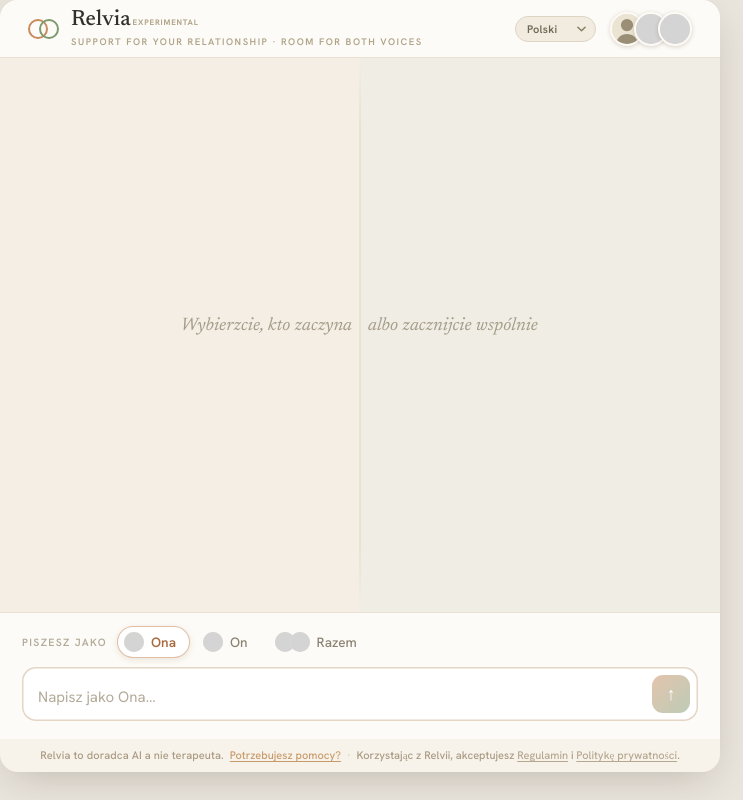
Scenario: SafetyFooter — komunikaty bezpieczeństwa w trzech językach › pl: rozwija pełny komunikat z numerami
Click the button "Potrzebujesz pomocy?".
click(285, 755)  # box [230, 748, 341, 762]
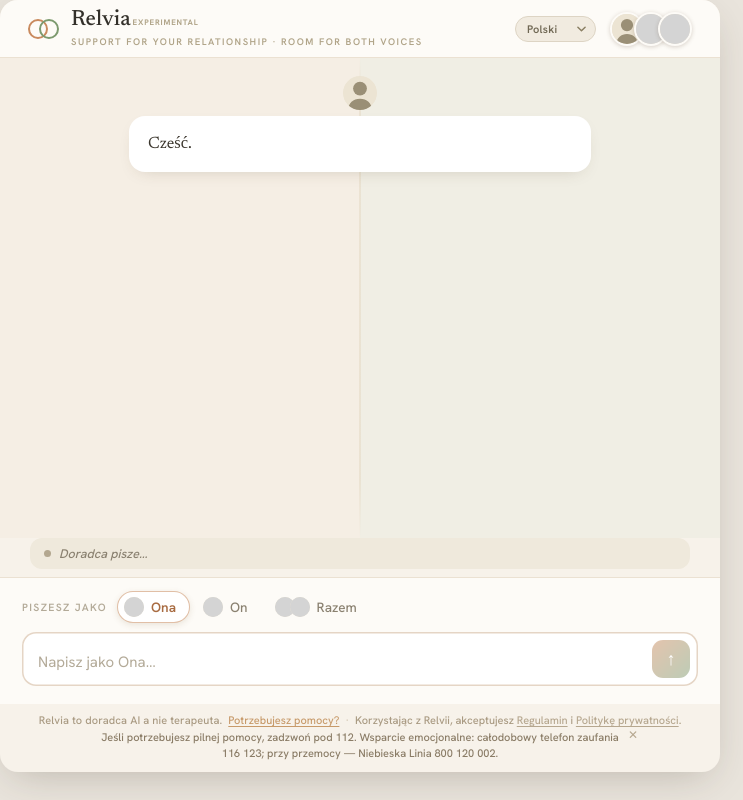
Now the element with class "safety-footer-full" shows "112", box [101, 730, 619, 760]
Now the element with class "safety-footer-full" shows "116 123", box [101, 730, 619, 760]
Now the element with class "safety-footer-full" shows "800 120 002", box [101, 730, 619, 760]
